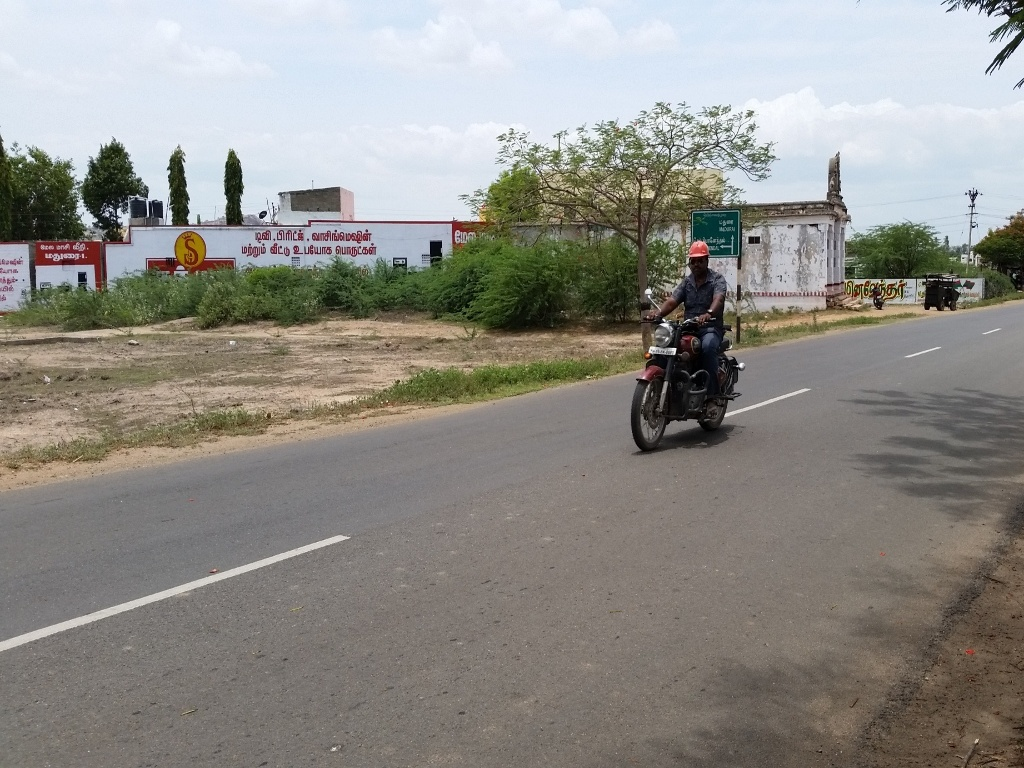biker: (613, 212, 763, 464)
helmet: (680, 231, 722, 286)
